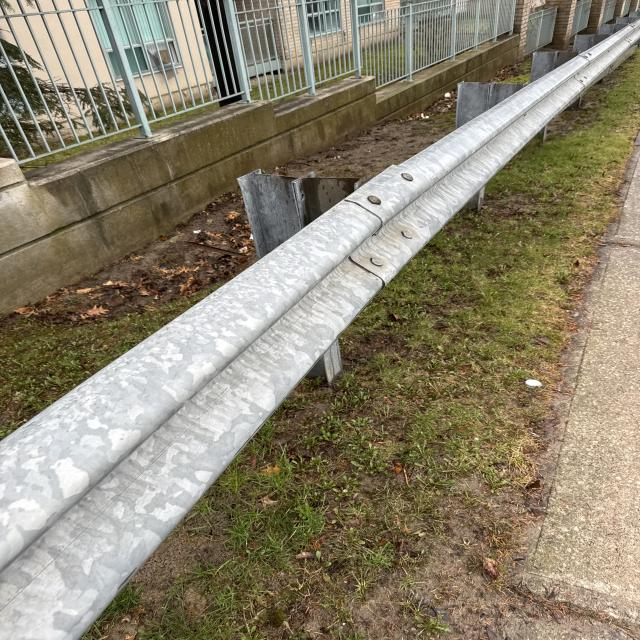Guard rail: (11, 192, 398, 618)
